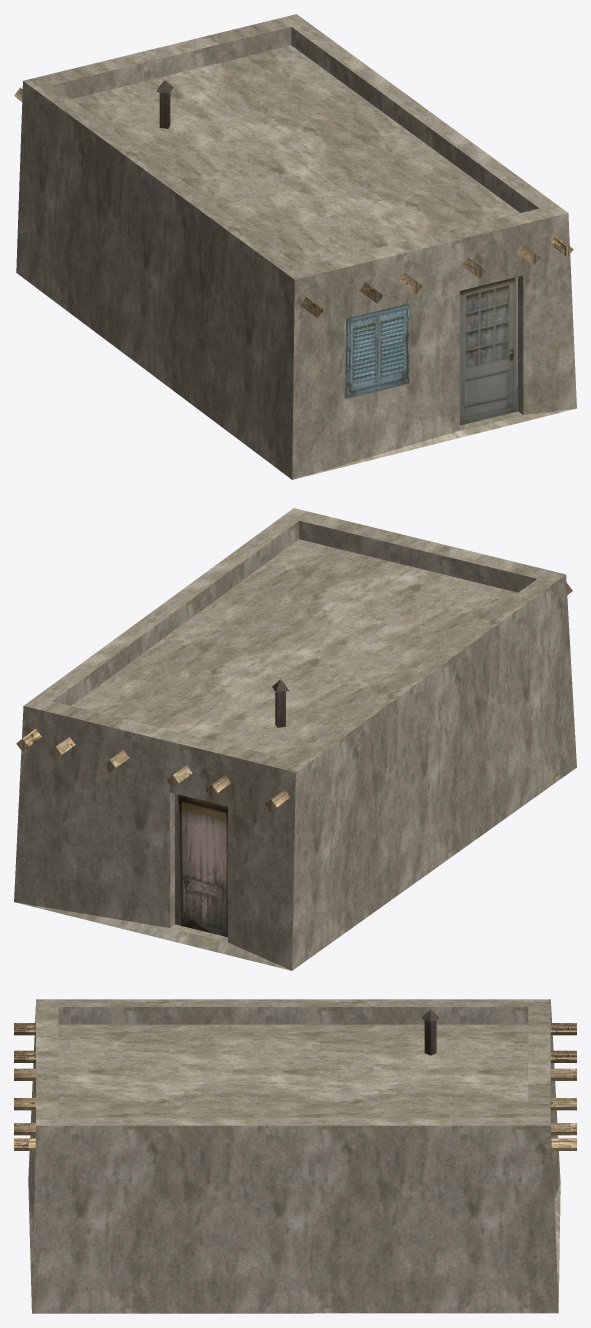
File: des_pueblo2.obj
3 views of the same model, one above another, from view 1: azimuth 30°, elevation 25°; view 2: azimuth 150°, elevation 25°; view 3: azimuth 270°, elevation 25° (orthographic). The views are drawn at different scales.
Parts seen in each view (by area): view 1: des_pueblo2; view 2: des_pueblo2; view 3: des_pueblo2.
Part boxes in pixels (left/top/right/bottom): des_pueblo2: left=14, top=14, right=576, bottom=479; des_pueblo2: left=14, top=508, right=576, bottom=970; des_pueblo2: left=14, top=999, right=576, bottom=1313.
Bounding box in the file's own units: 4.84 × 3.61 × 8.69.
Materials: 5 (5 with a texture image).
